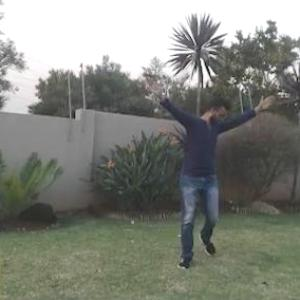takeoff: (129, 79, 281, 281)
